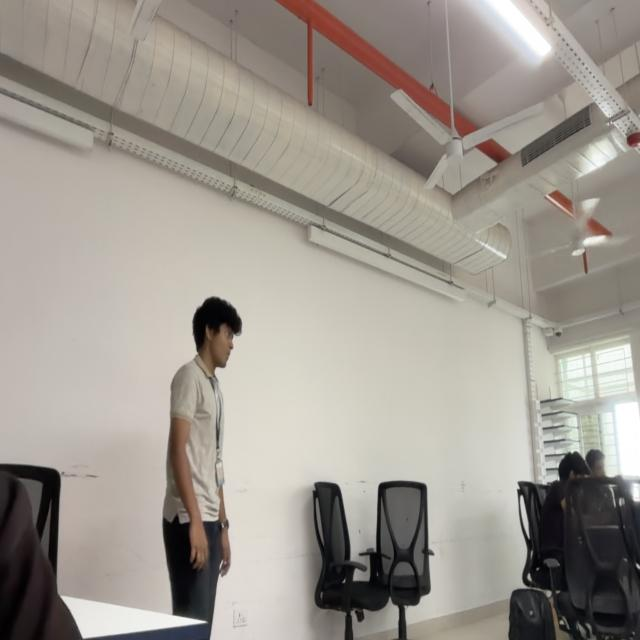kshitij: (192, 294, 242, 369)
